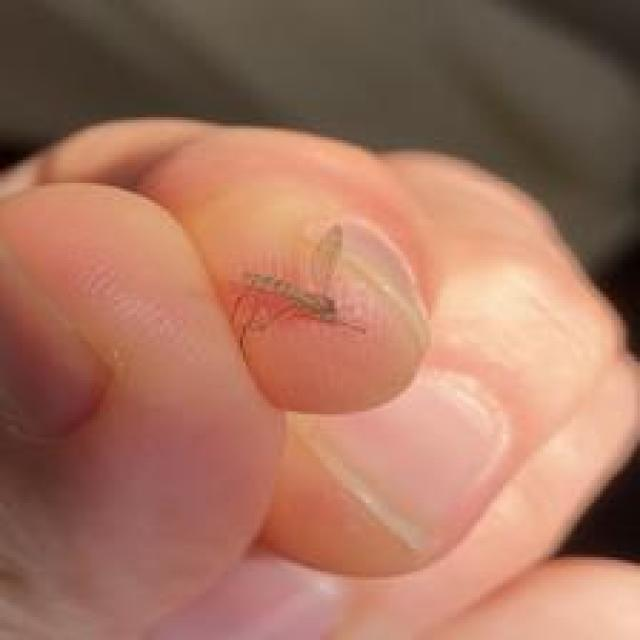Culex: (227, 222, 367, 364)
